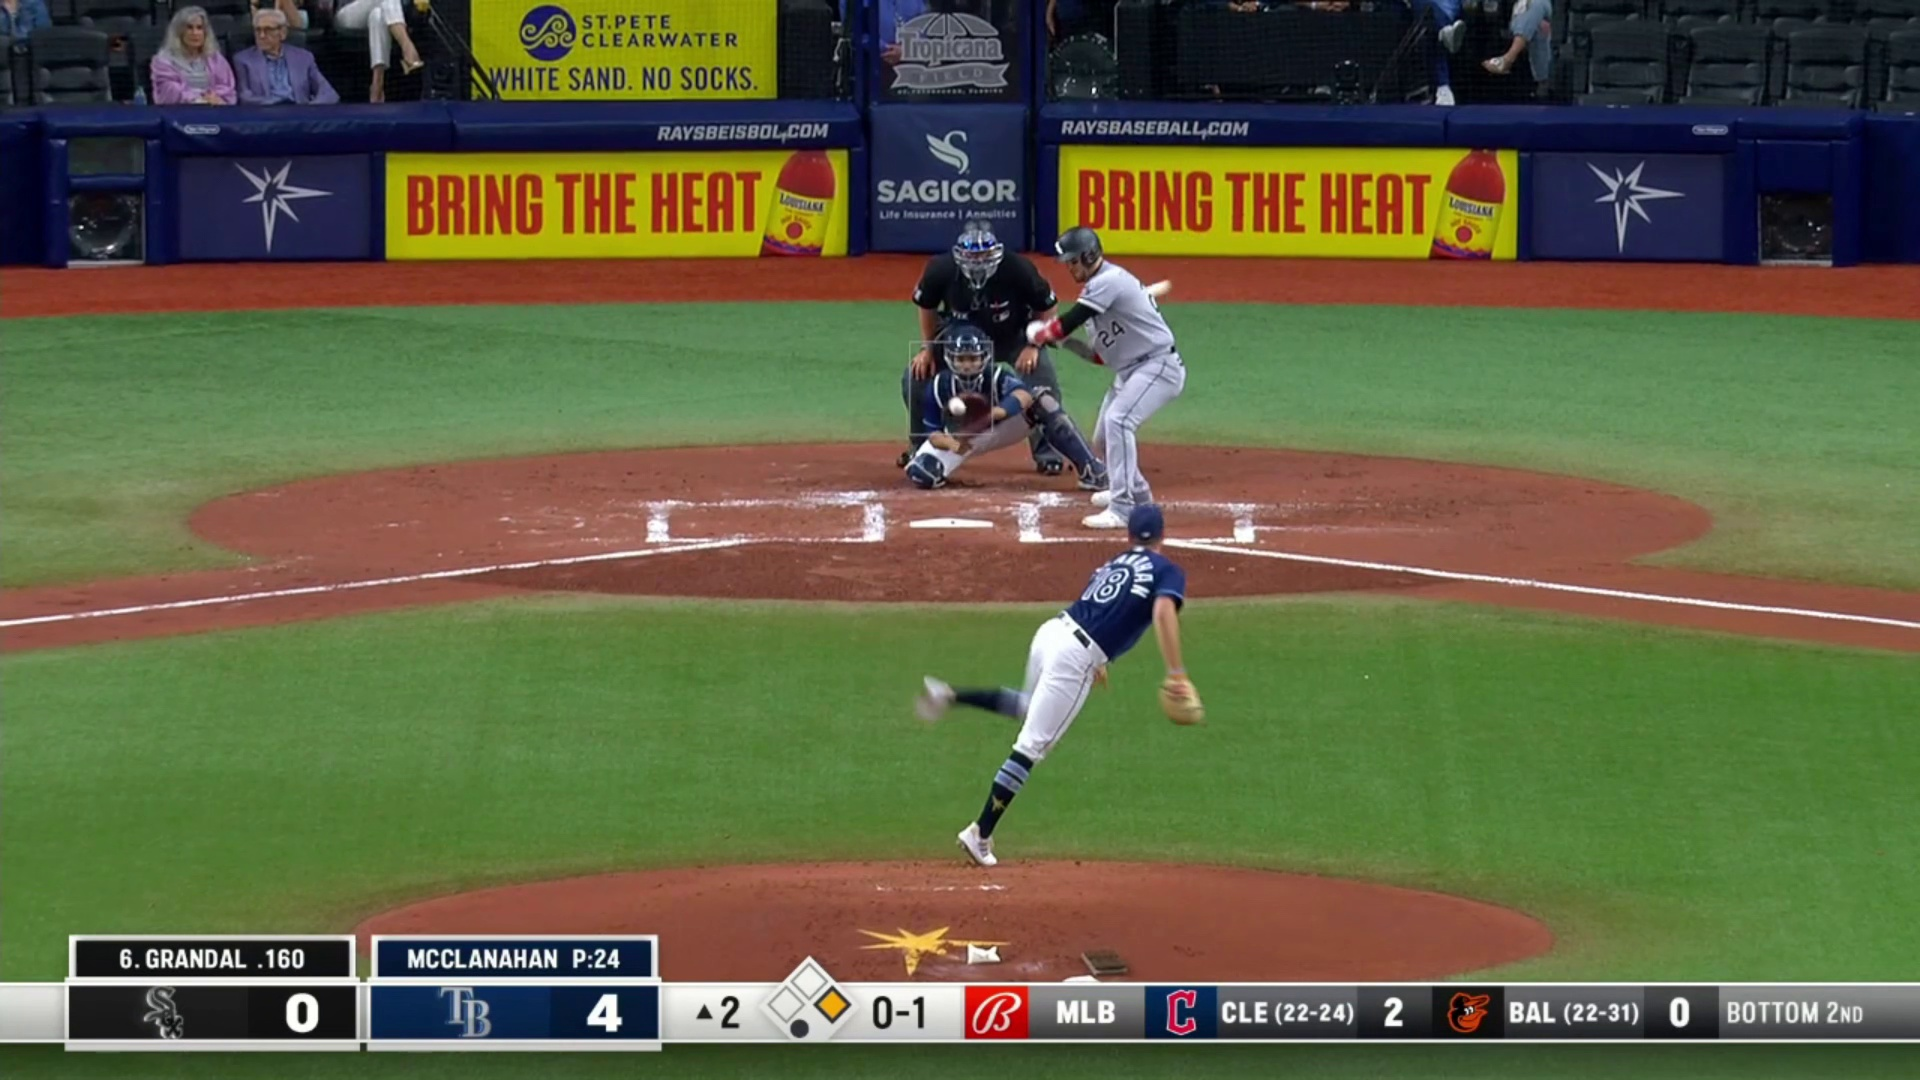baseball: (948, 397, 967, 415)
